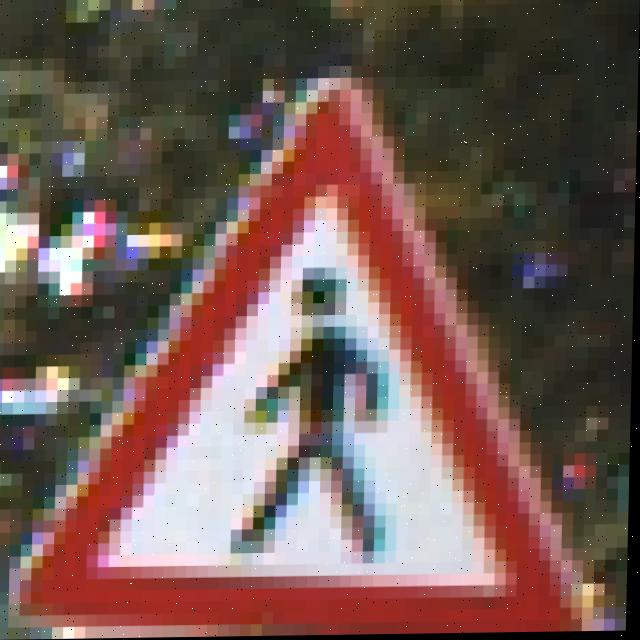crosswalk: (52, 74, 572, 639)
